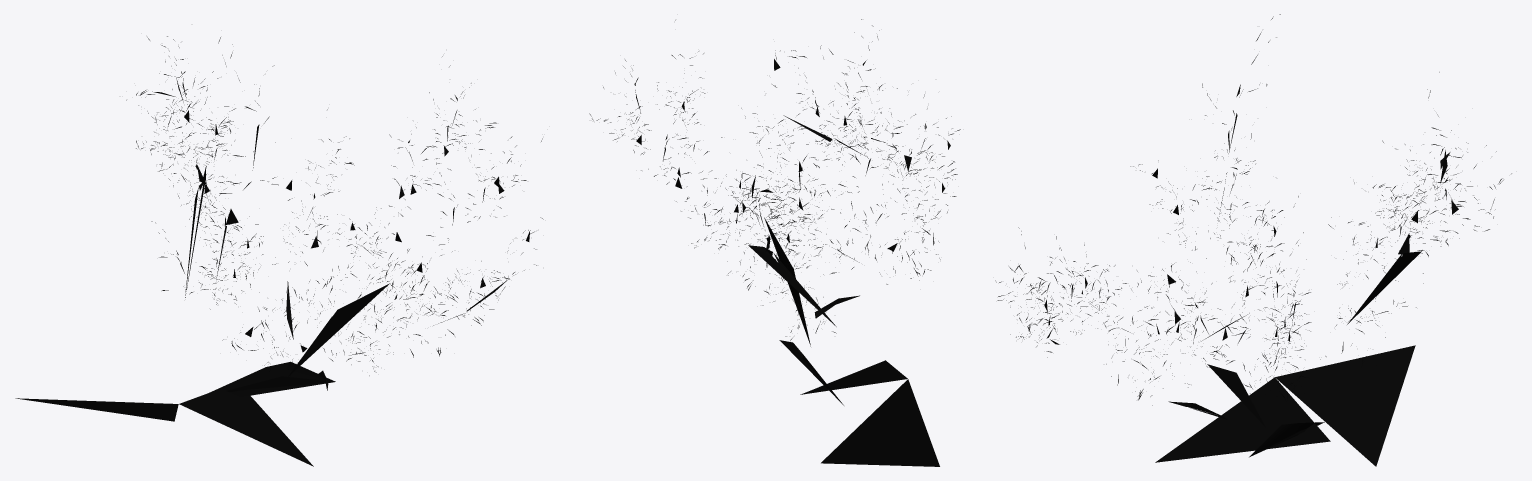
File: Broad_Scrub_C.glb
The picture shows the model from 3 angles, left to right: view 1: azimuth 30°, elevation 25°; view 2: azimuth 150°, elevation 25°; view 3: azimuth 270°, elevation 25°; orthographic projection. The views are drawn at different scales.
Parts seen in each view (by area): view 1: tree; view 2: tree; view 3: tree.
Boxes of the visible parts, x1,y1,x2,y2 form: tree: (15,36,543,466); tree: (589,19,960,466); tree: (995,14,1511,466).
Size of the model in its own units: 2.86 by 2.7 by 2.84.
1 material, 1 textured.
